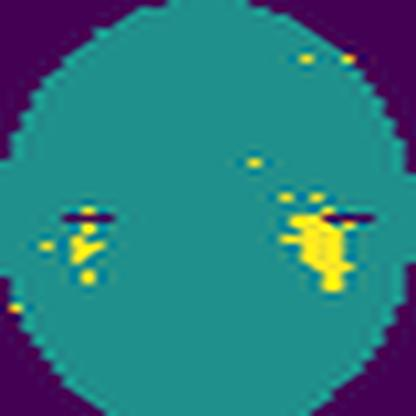Loc: (278, 206, 358, 293), (69, 218, 109, 266)
